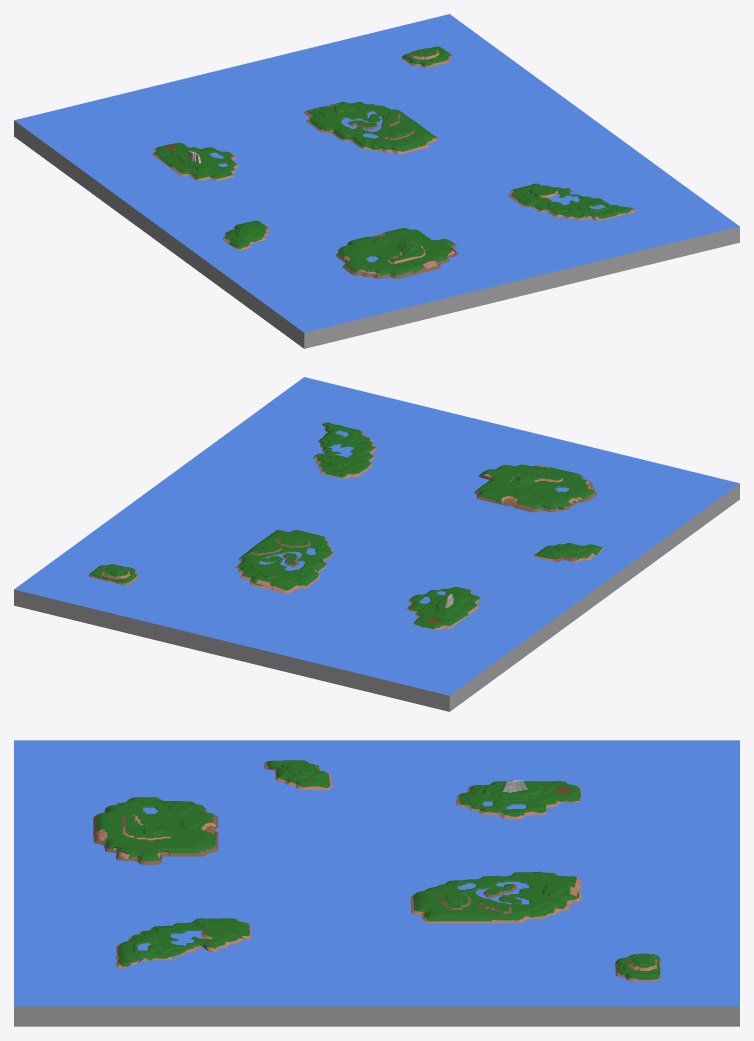
File: mapaIlhas.fbx
3 renders of one model, top to bottom at view 1: azimuth 30°, elevation 25°; view 2: azimuth 150°, elevation 25°; view 3: azimuth 270°, elevation 25°, orthographic. The views are drawn at different scales.
Parts seen in each view (by area): view 1: base, terrain, ilhaA, IlhaB, IlhaD, IlhaC, IlhaF, ilhaE; view 2: base, terrain, ilhaA, IlhaB, IlhaD, IlhaC, IlhaF, ilhaE; view 3: base, terrain, ilhaA, IlhaB, IlhaD, IlhaC, IlhaF, ilhaE.
Boxes of the visible parts, bbox=[...] form: base: bbox=[14, 14, 739, 332]; terrain: bbox=[14, 120, 739, 348]; ilhaA: bbox=[304, 102, 438, 154]; IlhaB: bbox=[336, 228, 458, 278]; IlhaD: bbox=[508, 183, 635, 220]; IlhaC: bbox=[152, 142, 238, 180]; IlhaF: bbox=[222, 220, 269, 250]; ilhaE: bbox=[401, 46, 452, 67]; base: bbox=[14, 377, 739, 695]; terrain: bbox=[14, 483, 739, 711]; ilhaA: bbox=[236, 530, 334, 593]; IlhaB: bbox=[474, 464, 597, 512]; IlhaD: bbox=[313, 422, 377, 478]; IlhaC: bbox=[406, 586, 481, 630]; IlhaF: bbox=[533, 543, 604, 562]; ilhaE: bbox=[88, 564, 138, 585]; base: bbox=[14, 740, 739, 1006]; terrain: bbox=[14, 1006, 739, 1026]; ilhaA: bbox=[411, 871, 581, 923]; IlhaB: bbox=[93, 797, 218, 864]; IlhaD: bbox=[116, 918, 251, 968]; IlhaC: bbox=[456, 780, 581, 819]; IlhaF: bbox=[264, 760, 331, 790]; ilhaE: bbox=[615, 953, 660, 981].
Bounding box in the file's own units: 1295 × 77.87 × 1494.
